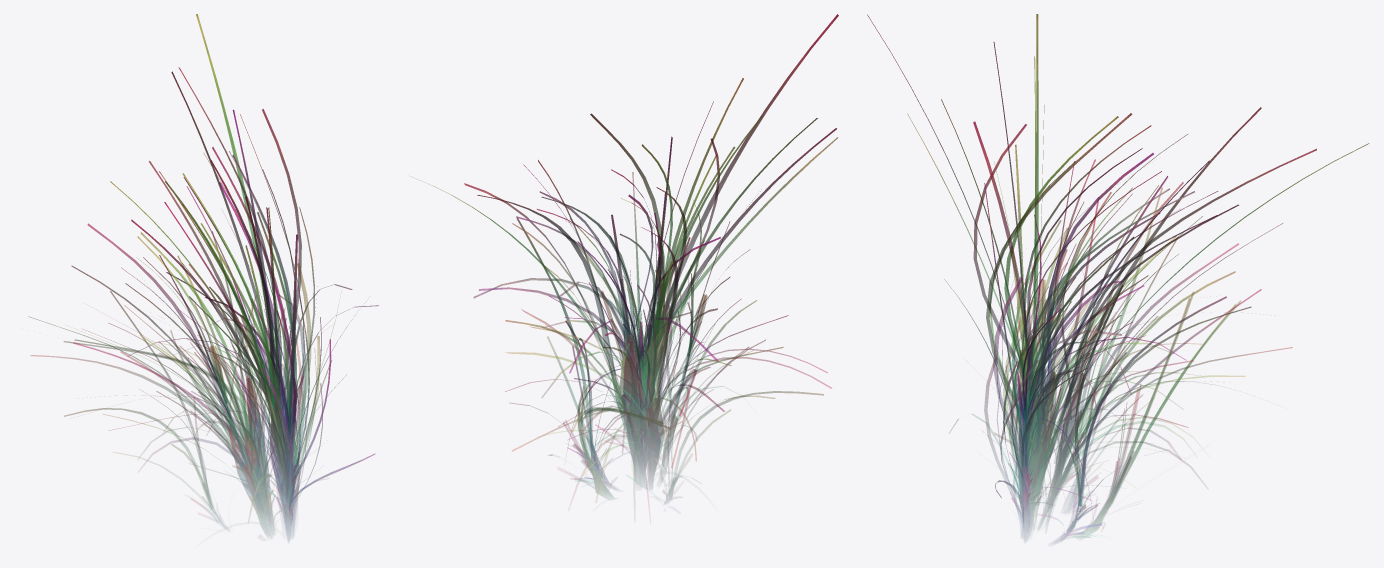
The model's file is ui2oagjia_tier_3.gltf.
3 renders of one model, left to right at view 1: azimuth 30°, elevation 25°; view 2: azimuth 150°, elevation 25°; view 3: azimuth 270°, elevation 25°, orthographic. The views are drawn at different scales.
Visible parts, largest first — view 1: SM_ui2oagjia_VarA, SM_ui2oagjia_VarD, SM_ui2oagjia_VarE, SM_ui2oagjia_VarG, SM_ui2oagjia_VarF, SM_ui2oagjia_VarH, SM_ui2oagjia_VarC; view 2: SM_ui2oagjia_VarA, SM_ui2oagjia_VarD, SM_ui2oagjia_VarE, SM_ui2oagjia_VarB, SM_ui2oagjia_VarG, SM_ui2oagjia_VarH, SM_ui2oagjia_VarF; view 3: SM_ui2oagjia_VarA, SM_ui2oagjia_VarD, SM_ui2oagjia_VarE, SM_ui2oagjia_VarB, SM_ui2oagjia_VarH, SM_ui2oagjia_VarF, SM_ui2oagjia_VarG.
Part boxes in pixels (left/top/right/bottom): SM_ui2oagjia_VarA: left=28, top=14, right=320, bottom=534; SM_ui2oagjia_VarD: left=66, top=109, right=331, bottom=534; SM_ui2oagjia_VarE: left=128, top=234, right=378, bottom=522; SM_ui2oagjia_VarG: left=189, top=265, right=331, bottom=528; SM_ui2oagjia_VarF: left=189, top=212, right=297, bottom=524; SM_ui2oagjia_VarH: left=218, top=286, right=322, bottom=534; SM_ui2oagjia_VarC: left=258, top=378, right=374, bottom=518; SM_ui2oagjia_VarA: left=411, top=14, right=838, bottom=502; SM_ui2oagjia_VarD: left=505, top=78, right=827, bottom=482; SM_ui2oagjia_VarE: left=473, top=136, right=741, bottom=463; SM_ui2oagjia_VarB: left=510, top=218, right=616, bottom=489; SM_ui2oagjia_VarG: left=549, top=236, right=697, bottom=472; SM_ui2oagjia_VarH: left=569, top=241, right=659, bottom=441; SM_ui2oagjia_VarF: left=564, top=192, right=711, bottom=438; SM_ui2oagjia_VarA: left=867, top=14, right=1369, bottom=524; SM_ui2oagjia_VarD: left=941, top=99, right=1292, bottom=533; SM_ui2oagjia_VarE: left=944, top=183, right=1186, bottom=524; SM_ui2oagjia_VarB: left=1038, top=284, right=1226, bottom=543; SM_ui2oagjia_VarH: left=996, top=308, right=1092, bottom=529; SM_ui2oagjia_VarF: left=992, top=220, right=1145, bottom=509; SM_ui2oagjia_VarG: left=1009, top=272, right=1132, bottom=507.
Size of what is drawn, in the model's own units: 0.7038 by 0.9068 by 0.8645.
Materials: 1 (1 with a texture image).
